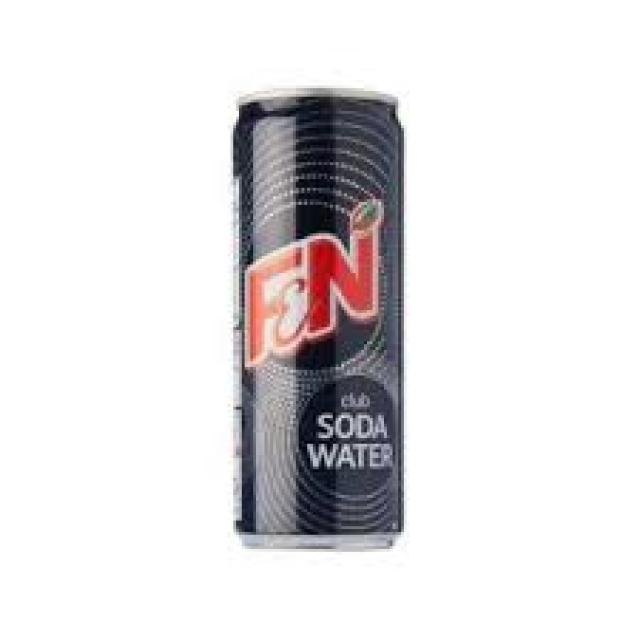Cans: (222, 77, 415, 557)
